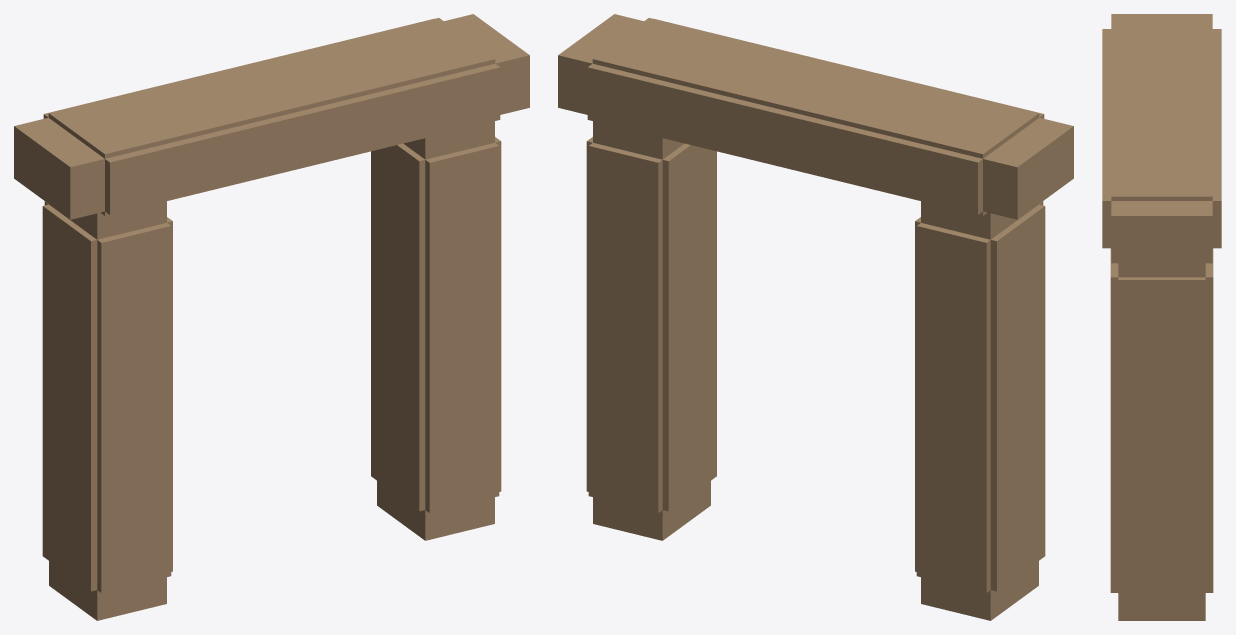
Rendered from env_enchanted_root_arch.glb.
The picture shows the model from 3 angles, left to right: view 1: azimuth 30°, elevation 25°; view 2: azimuth 150°, elevation 25°; view 3: azimuth 270°, elevation 25°; orthographic projection. The views are drawn at different scales.
Parts seen in each view (by area): view 1: box; view 2: box; view 3: box.
Boxes of the visible parts, <box> form: box: <box>14,14,529,620</box>; box: <box>558,14,1073,620</box>; box: <box>1102,14,1221,620</box>.
Bounding box in the file's own units: 2.8 × 2.73 × 0.7.
